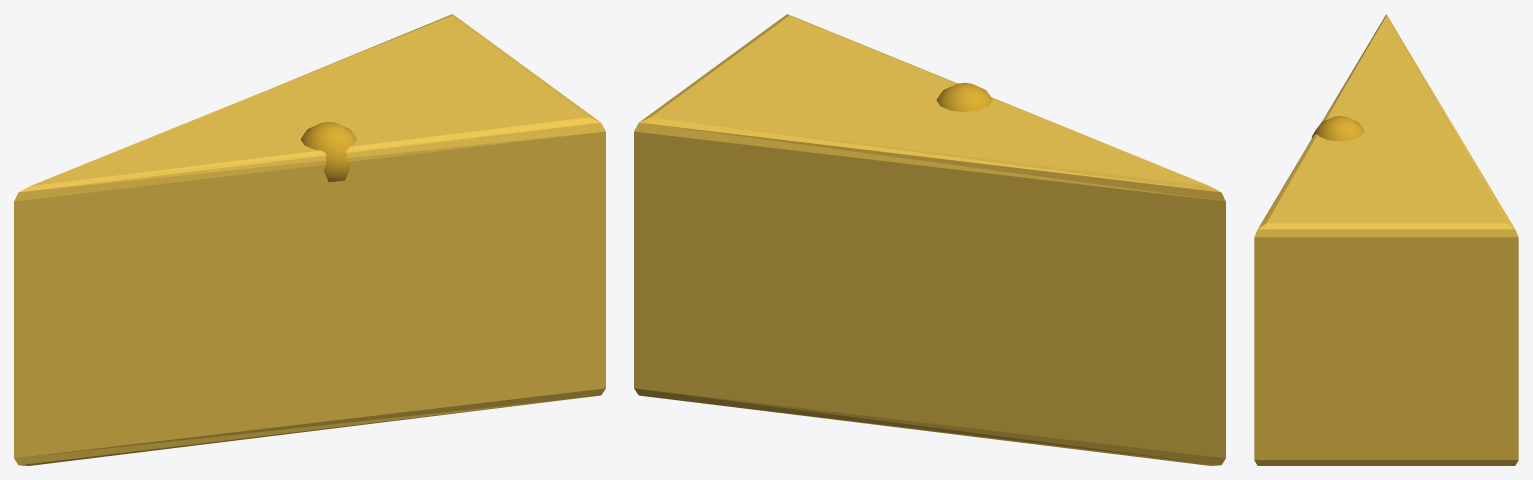
File: queso.glb
3 renders of one model, left to right at view 1: azimuth 30°, elevation 25°; view 2: azimuth 150°, elevation 25°; view 3: azimuth 270°, elevation 25°, orthographic. The views are drawn at different scales.
Bounding box in the file's own units: 0.0946 × 0.0515 × 0.0484.
